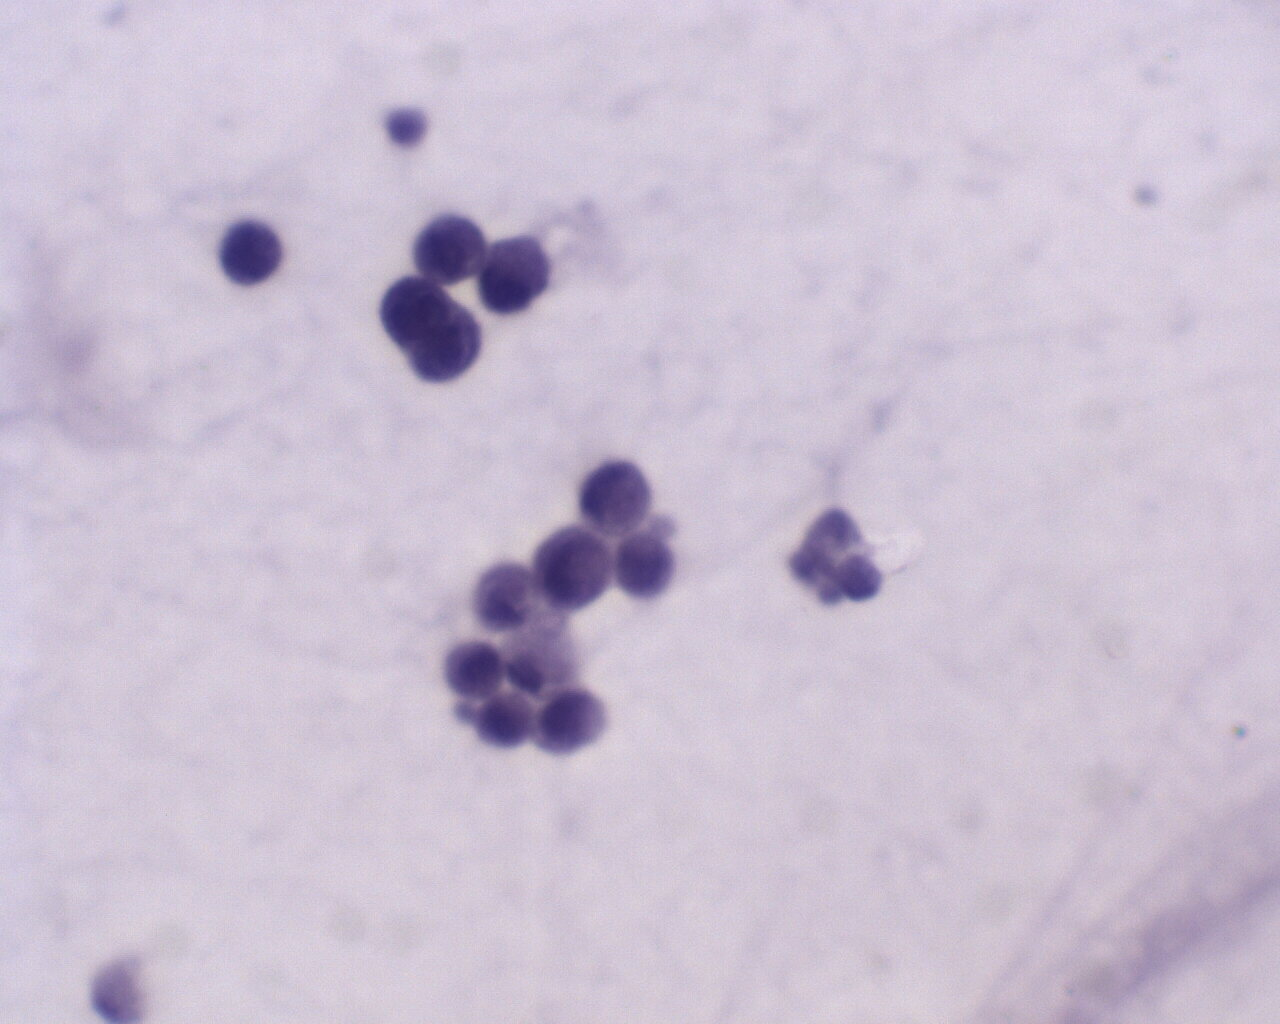ab: (381, 279, 479, 387), (480, 227, 559, 319), (537, 528, 613, 615), (412, 201, 487, 288), (218, 219, 290, 288), (442, 633, 504, 701)
histo: (582, 458, 660, 537)
